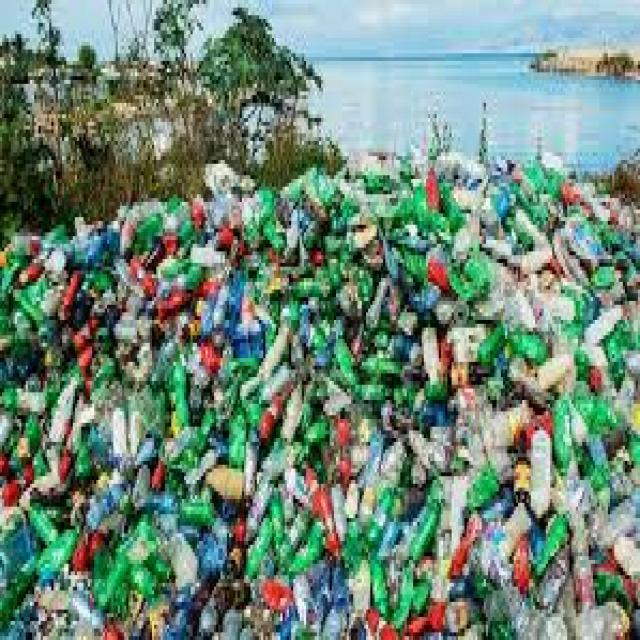heap: (145, 211, 618, 618)
